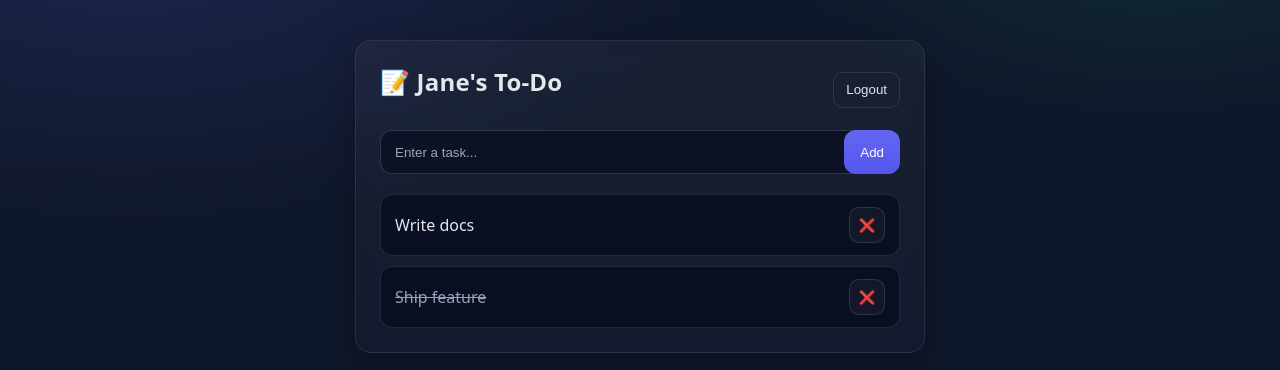
it: App component › deletes a todo from the list
Expected: the text "Write docs" is shown, [395,214,474,236]
Click the button named "Delete todo". click: (867, 225)
box: [849,207,885,243]
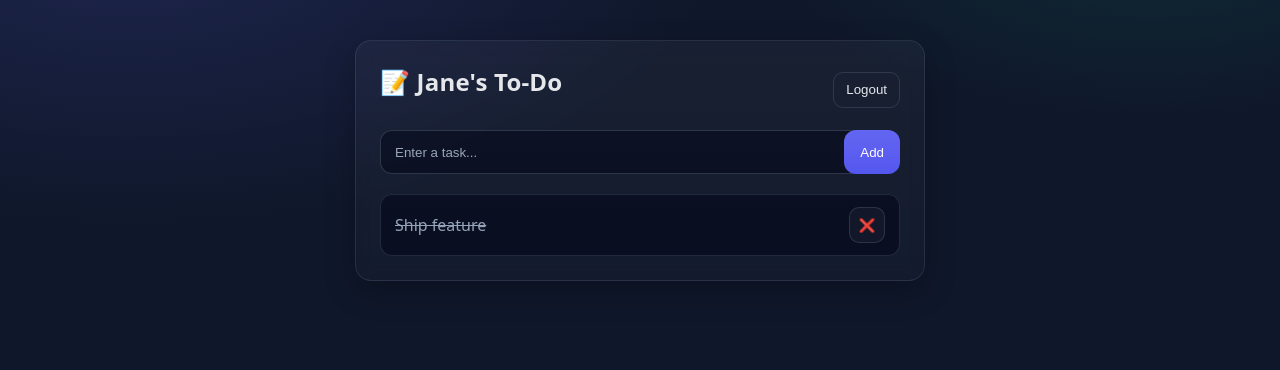
Result: the text "Write docs" is gone
